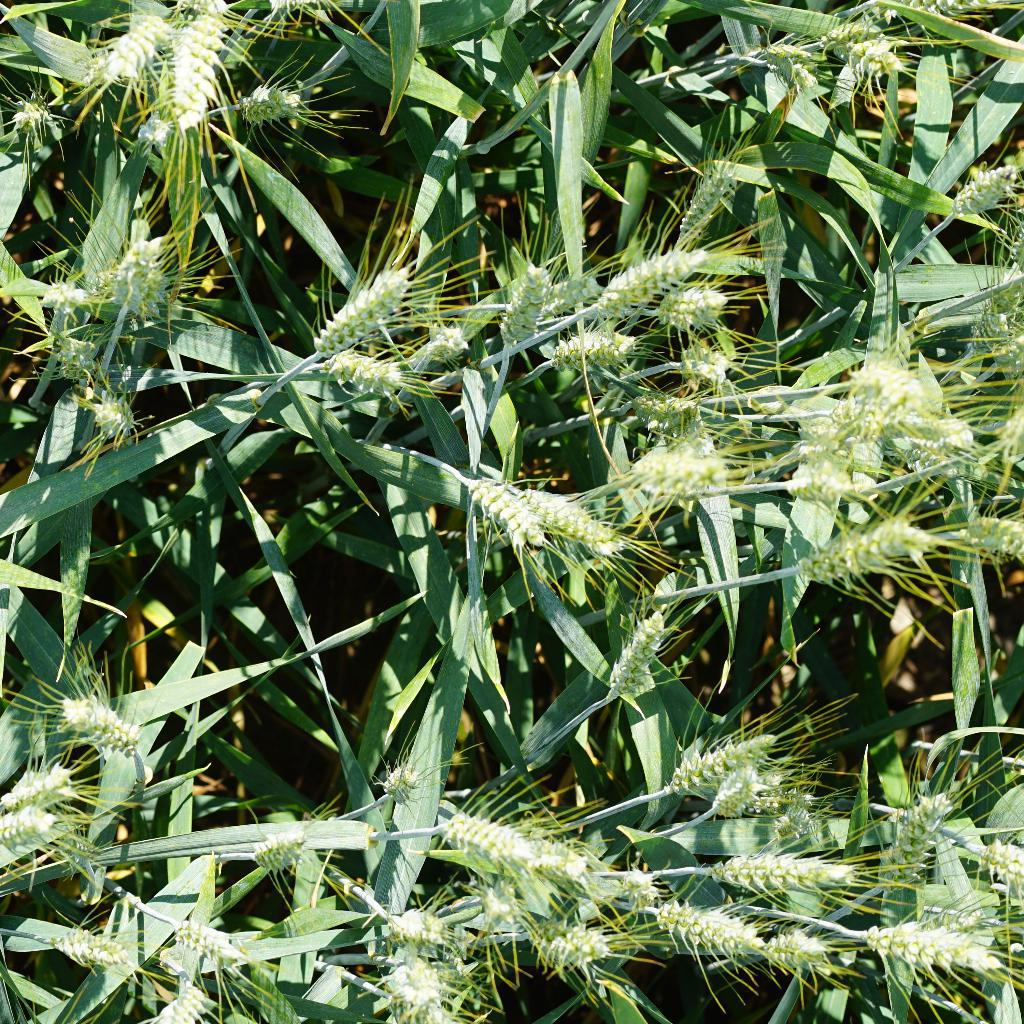0-0: (430, 795, 600, 877), (785, 403, 991, 463), (295, 251, 418, 351), (496, 471, 626, 560), (851, 914, 1005, 979), (456, 452, 549, 556), (582, 604, 669, 714), (473, 261, 560, 366), (792, 522, 931, 585), (877, 787, 953, 899), (367, 945, 474, 1024), (665, 154, 765, 238), (695, 848, 859, 899), (591, 246, 718, 311), (48, 677, 144, 758), (609, 430, 739, 488), (164, 17, 228, 133), (651, 894, 765, 959), (669, 737, 802, 791), (530, 321, 649, 380), (508, 900, 610, 968), (97, 0, 171, 92), (935, 144, 1024, 219), (52, 907, 133, 986), (819, 351, 927, 410), (605, 372, 709, 428), (183, 914, 266, 982), (116, 235, 174, 325), (967, 256, 1024, 345), (316, 350, 411, 403), (697, 774, 796, 823), (831, 39, 912, 98), (781, 453, 879, 501), (236, 75, 321, 130), (0, 81, 73, 144), (0, 743, 73, 804), (247, 828, 324, 885), (956, 504, 1024, 565), (384, 899, 460, 950), (676, 335, 750, 385), (811, 13, 892, 58), (49, 329, 108, 387), (756, 36, 822, 87), (765, 920, 829, 971), (377, 747, 425, 815), (0, 797, 62, 847), (402, 320, 470, 363), (145, 978, 208, 1024), (47, 275, 100, 329), (971, 834, 1024, 886), (473, 871, 526, 922), (131, 105, 180, 159), (94, 397, 152, 433), (617, 855, 660, 903)
